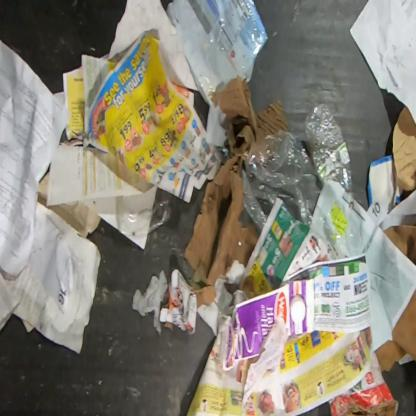cardboard: (222, 278, 314, 372), (328, 344, 399, 415), (373, 288, 415, 375), (392, 106, 416, 191), (383, 224, 415, 268)
rigid_plastic: (116, 196, 172, 236)
soft_plastic: (240, 101, 354, 246), (168, 0, 268, 97)
